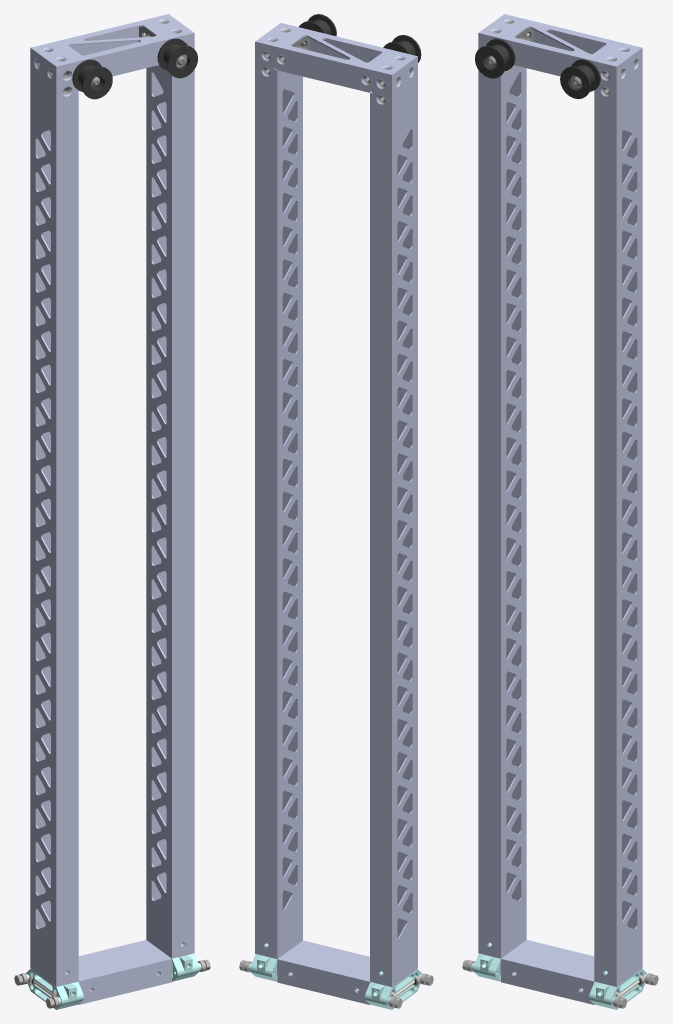
The picture shows the model from 3 angles, left to right: view 1: azimuth 30°, elevation 25°; view 2: azimuth 150°, elevation 25°; view 3: azimuth 330°, elevation 25°; orthographic projection.
Parts seen in each view (by area): view 1: <1690-25-1000-BasePart>-<Cut-Extrude41[1]>(Espelhar):1__Corp (×2), <1690-25-1000-BasePart>-<Cut-Extrude41[1]>:1__Corpo2, 9199 - Sharks Elevador orbit_Componente1756_FHIL v3:2__Corpo, <1690-25-1000-BasePart>-<Cut-Extrude7[7]>:1__Corpo1, 1690-25-1225 IMPRESSO POLIA LISA :1__Corpo1 (×2), PATINS ELEVADOR RETO PADRÃO v3:6__Corpo1, PATINS ELEVADOR RETO PADRÃO v3:5__Corpo1; view 2: <1690-25-1000-BasePart>-<Cut-Extrude41[1]>(Espelhar):1__Corp (×2), <1690-25-1000-BasePart>-<Cut-Extrude41[1]>:1__Corpo2, 9199 - Sharks Elevador orbit_Componente1756_FHIL v3:2__Corpo, <1690-25-1000-BasePart>-<Cut-Extrude7[7]>:1__Corpo1, PATINS ELEVADOR RETO PADRÃO v3:6__Corpo1, 1690-25-1225 IMPRESSO POLIA LISA :1__Corpo1 (×2), <1690-25-1000-BasePart>-<Cut-Extrude41[1]>:1__Corpo4, PATINS ELEVADOR RETO PADRÃO v3:5__Corpo1; view 3: <1690-25-1000-BasePart>-<Cut-Extrude41[1]>:1__Corpo2, <1690-25-1000-BasePart>-<Cut-Extrude41[1]>(Espelhar):1__Corp, 9199 - Sharks Elevador orbit_Componente1756_FHIL v3:2__Corpo, <1690-25-1000-BasePart>-<Cut-Extrude7[7]>:1__Corpo1, 1690-25-1225 IMPRESSO POLIA LISA :1__Corpo1 (×2), <1690-25-1000-BasePart>-<Cut-Extrude41[1]>:1__Corpo4, PATINS ELEVADOR RETO PADRÃO v3:5__Corpo1, PATINS ELEVADOR RETO PADRÃO v3:6__Corpo1.
Part boxes in pixels (x1,y1,x2,y2): <1690-25-1000-BasePart>-<Cut-Extrude41[1]>(Espelhar):1__Corp (×2): (30,48,78,986); <1690-25-1000-BasePart>-<Cut-Extrude41[1]>:1__Corpo2: (146,65,194,958); 9199 - Sharks Elevador orbit_Componente1756_FHIL v3:2__Corpo: (31,14,193,78); <1690-25-1000-BasePart>-<Cut-Extrude7[7]>:1__Corpo1: (78,940,171,1004); 1690-25-1225 IMPRESSO POLIA LISA :1__Corpo1 (×2): (72,38,197,99); PATINS ELEVADOR RETO PADRÃO v3:6__Corpo1: (25,968,83,1009); PATINS ELEVADOR RETO PADRÃO v3:5__Corpo1: (172,942,201,981); <1690-25-1000-BasePart>-<Cut-Extrude41[1]>(Espelhar):1__Corp (×2): (370,56,417,986); <1690-25-1000-BasePart>-<Cut-Extrude41[1]>:1__Corpo2: (255,69,302,959); 9199 - Sharks Elevador orbit_Componente1756_FHIL v3:2__Corpo: (255,23,417,92); <1690-25-1000-BasePart>-<Cut-Extrude7[7]>:1__Corpo1: (277,940,369,1004); PATINS ELEVADOR RETO PADRÃO v3:6__Corpo1: (364,969,422,1009); 1690-25-1225 IMPRESSO POLIA LISA :1__Corpo1 (×2): (299,14,421,62); <1690-25-1000-BasePart>-<Cut-Extrude41[1]>:1__Corpo4: (255,42,290,83); PATINS ELEVADOR RETO PADRÃO v3:5__Corpo1: (248,942,277,981); <1690-25-1000-BasePart>-<Cut-Extrude41[1]>:1__Corpo2: (594,85,642,986); <1690-25-1000-BasePart>-<Cut-Extrude41[1]>(Espelhar):1__Corp: (478,65,526,958); 9199 - Sharks Elevador orbit_Componente1756_FHIL v3:2__Corpo: (479,14,641,78); <1690-25-1000-BasePart>-<Cut-Extrude7[7]>:1__Corpo1: (501,940,594,1004); 1690-25-1225 IMPRESSO POLIA LISA :1__Corpo1 (×2): (475,38,600,98); <1690-25-1000-BasePart>-<Cut-Extrude41[1]>:1__Corpo4: (594,48,642,103); PATINS ELEVADOR RETO PADRÃO v3:5__Corpo1: (589,968,647,1009); PATINS ELEVADOR RETO PADRÃO v3:6__Corpo1: (471,942,500,981).
Size of the model in its own units: 0.1812 by 1.03 by 0.0923.
